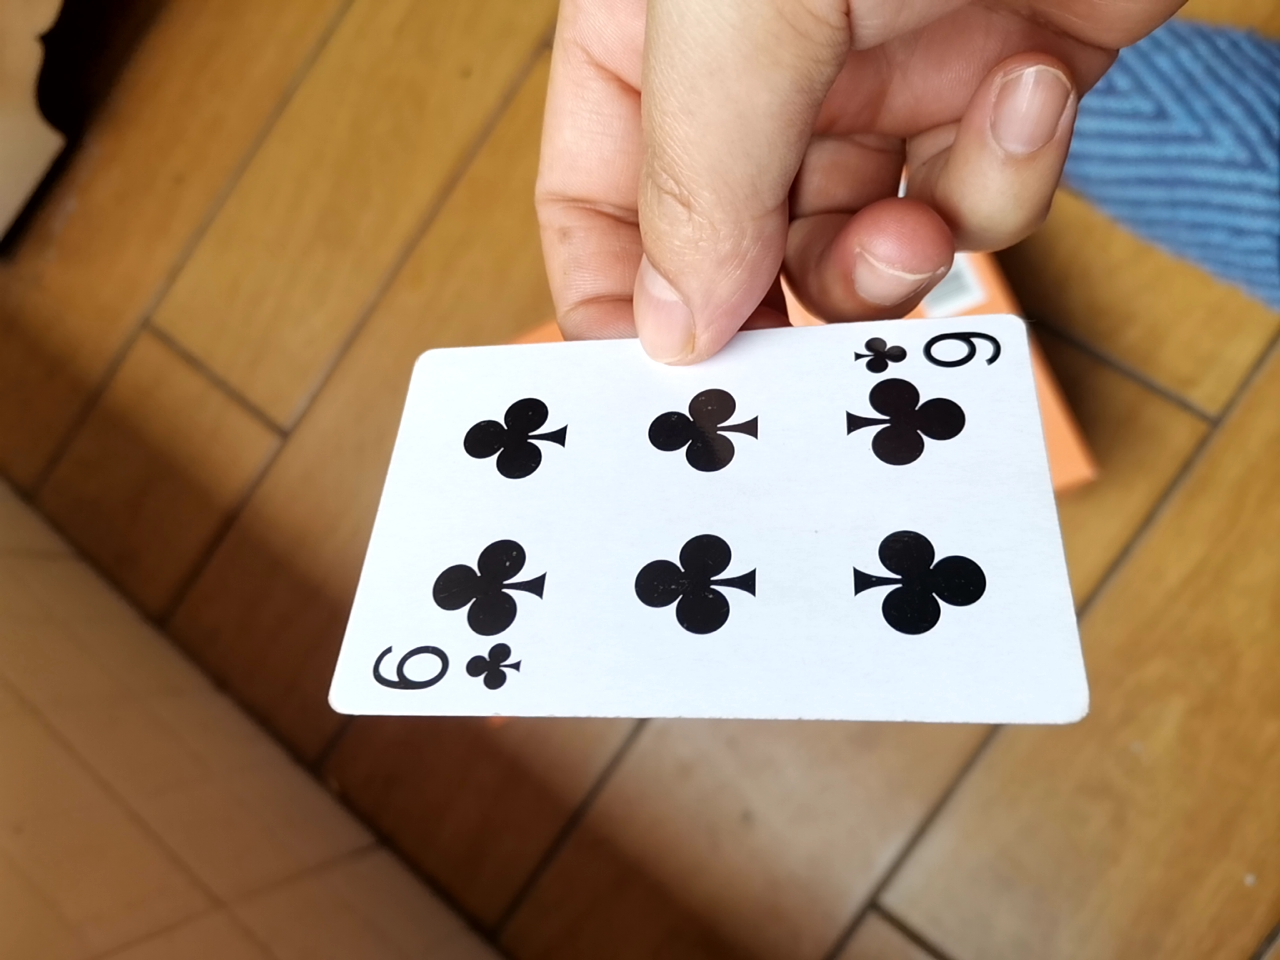mh 6: (318, 298, 1099, 735)
